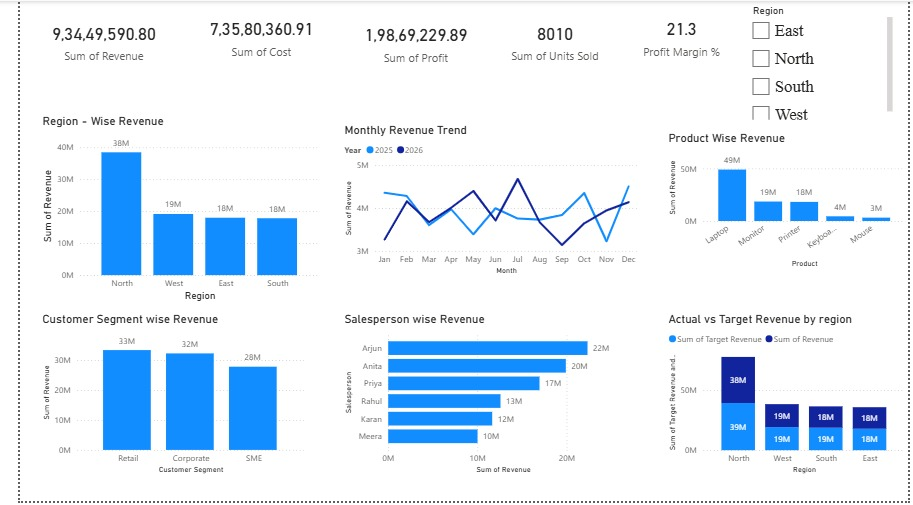

This screenshot's page, from the dashboard's own definition file:
{"tool":"powerbi","page":{"name":"Page 1","canvas":[1280,720],"ordinal":0},"visuals":[{"type":"card","fields":{"Values":["Sum(Raw_Data.Revenue)"]},"box":[10,0,221.4,114.3],"z":0},{"type":"card","fields":{"Values":["Sum(Raw_Data.Cost)"]},"box":[231.4,0,231.4,101.4],"z":1000},{"type":"card","fields":{"Values":["Sum(Raw_Data.Profit)"]},"box":[462.9,4.3,215.7,110],"z":2000},{"type":"card","fields":{"Values":["Sum(Raw_Data.Units Sold)"]},"box":[678.6,0,184.3,114.3],"z":3000},{"type":"card","fields":{"Values":["Raw_Data.Profit Margin %"]},"box":[862.9,0,180,101.4],"z":4000},{"type":"columnChart","title":"Region - Wise Revenue","fields":{"Category":["Raw_Data.Region"],"Y":["Sum(Raw_Data.Revenue)"]},"box":[27.4,162.7,409,275],"z":5000},{"type":"lineChart","title":"Monthly Revenue Trend","fields":{"Y":["Sum(Raw_Data.Revenue)"],"Series":["Raw_Data.Year"],"Category":["Raw_Data.Month"]},"box":[462.2,175.7,432,223.2],"z":6000},{"type":"columnChart","title":"Product  Wise Revenue","fields":{"Category":["Raw_Data.Product"],"Y":["Sum(Raw_Data.Revenue)"]},"box":[928.8,187.2,351.4,201.6],"z":6001},{"type":"columnChart","title":"Customer Segment wise Revenue","fields":{"Category":["Raw_Data.Customer Segment"],"Y":["Sum(Raw_Data.Revenue)"]},"box":[27.4,447.8,387.4,237.6],"z":6002},{"type":"barChart","title":"Salesperson wise Revenue","fields":{"Category":["Raw_Data.Salesperson"],"Y":["Sum(Raw_Data.Revenue)"]},"box":[462.2,447.8,417.6,237.6],"z":6003},{"type":"columnChart","title":"Actual vs Target Revenue by region","fields":{"Category":["Raw_Data.Region"],"Y":["Sum(Raw_Data.Target Revenue)","Sum(Raw_Data.Revenue)"]},"box":[929,448,351,238],"z":6004},{"type":"slicer","fields":{"Values":["Raw_Data.Region"]},"box":[1042.9,0,218.6,175.7],"z":6005}]}

Visuals, with their boxes in screenshot pixels (x1, y1, x2, y2), scaled from the page's 1280x720 canvas onto the 913x505 screenshot:
card - Sum(Raw_Data.Revenue): (left=7, top=0, right=165, bottom=80)
card - Sum(Raw_Data.Cost): (left=165, top=0, right=330, bottom=71)
card - Sum(Raw_Data.Profit): (left=330, top=3, right=484, bottom=80)
card - Sum(Raw_Data.Units Sold): (left=484, top=0, right=615, bottom=80)
card - Raw_Data.Profit Margin %: (left=615, top=0, right=744, bottom=71)
"Region - Wise Revenue" columnChart: (left=20, top=114, right=311, bottom=307)
"Monthly Revenue Trend" lineChart: (left=330, top=123, right=638, bottom=280)
"Product  Wise Revenue" columnChart: (left=662, top=131, right=912, bottom=273)
"Customer Segment wise Revenue" columnChart: (left=20, top=314, right=296, bottom=481)
"Salesperson wise Revenue" barChart: (left=330, top=314, right=628, bottom=481)
"Actual vs Target Revenue by region" columnChart: (left=663, top=314, right=912, bottom=481)
slicer - Raw_Data.Region: (left=744, top=0, right=900, bottom=123)
